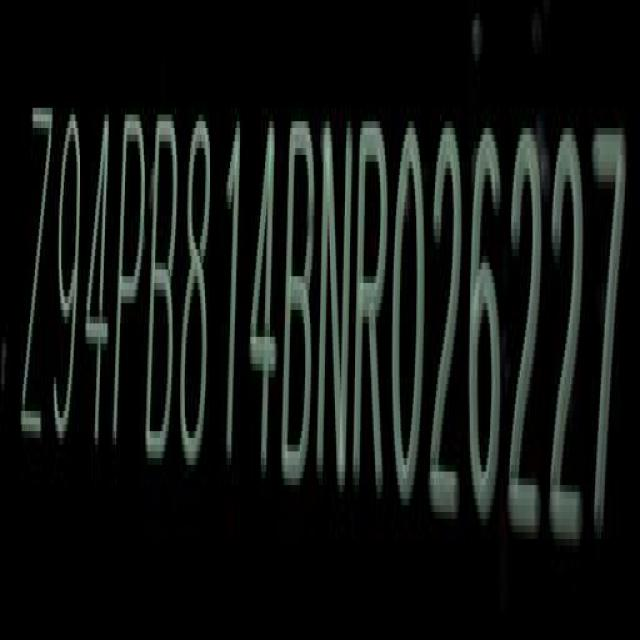0: (391, 112, 428, 506)
1: (219, 115, 243, 469)
2: (429, 105, 463, 526), (551, 122, 585, 539), (509, 123, 540, 532)
4: (246, 120, 278, 464), (86, 104, 112, 462)
6: (470, 132, 501, 524)
7: (592, 127, 627, 529)
8: (180, 117, 210, 462)
9: (54, 120, 80, 462)
B: (141, 112, 180, 464), (284, 117, 316, 499)
N: (316, 125, 352, 484)
P: (113, 102, 145, 437)
R: (350, 107, 390, 509)
Z: (21, 105, 54, 454)
